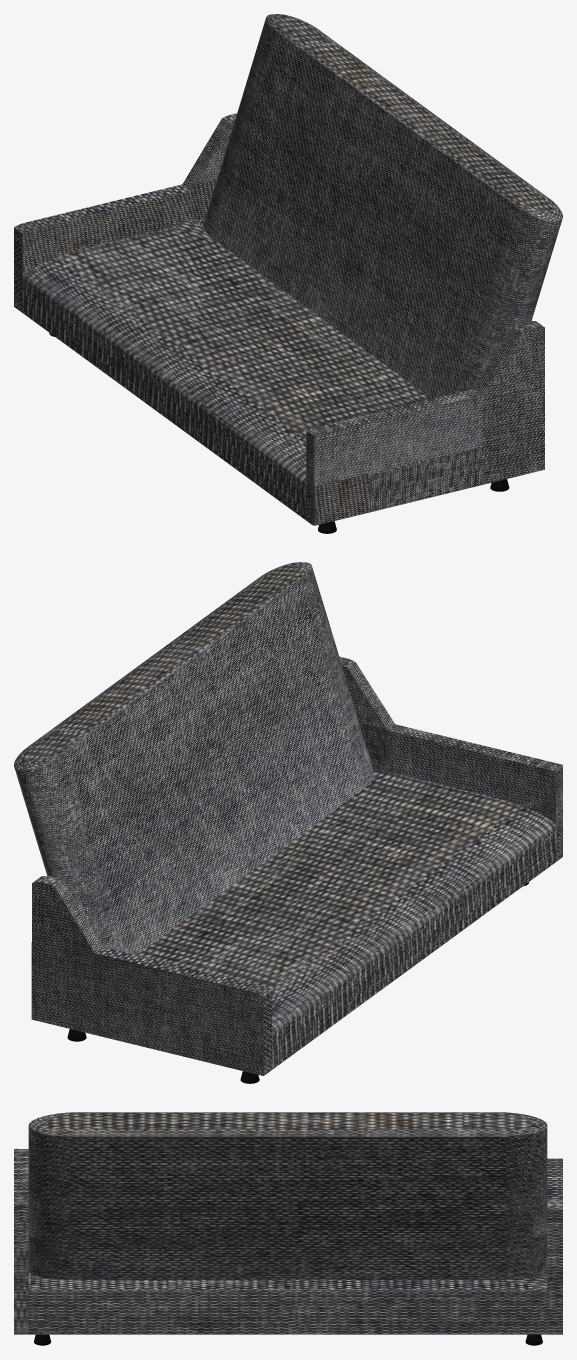
Rendered from Sofa.glb.
3 views of the same model, one above another, from view 1: azimuth 30°, elevation 25°; view 2: azimuth 150°, elevation 25°; view 3: azimuth 270°, elevation 25° (orthographic). The views are drawn at different scales.
Visible parts, largest first — view 1: Couch; view 2: Couch; view 3: Couch, leg.
Part boxes in pixels (x1=…): Couch: x1=14, y1=14, x2=562, y2=525; Couch: x1=14, y1=562, x2=562, y2=1075; Couch: x1=14, y1=1112, x2=562, y2=1334; leg: x1=34, y1=1334, x2=542, y2=1345.
Bounding box in the file's own units: 2.34 × 2.2 × 4.49.
2 materials, 2 textured.
